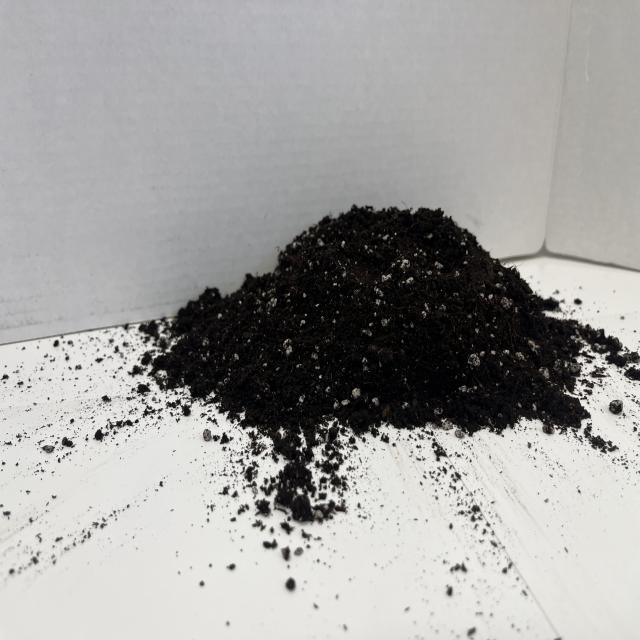soil: (145, 200, 595, 446)
